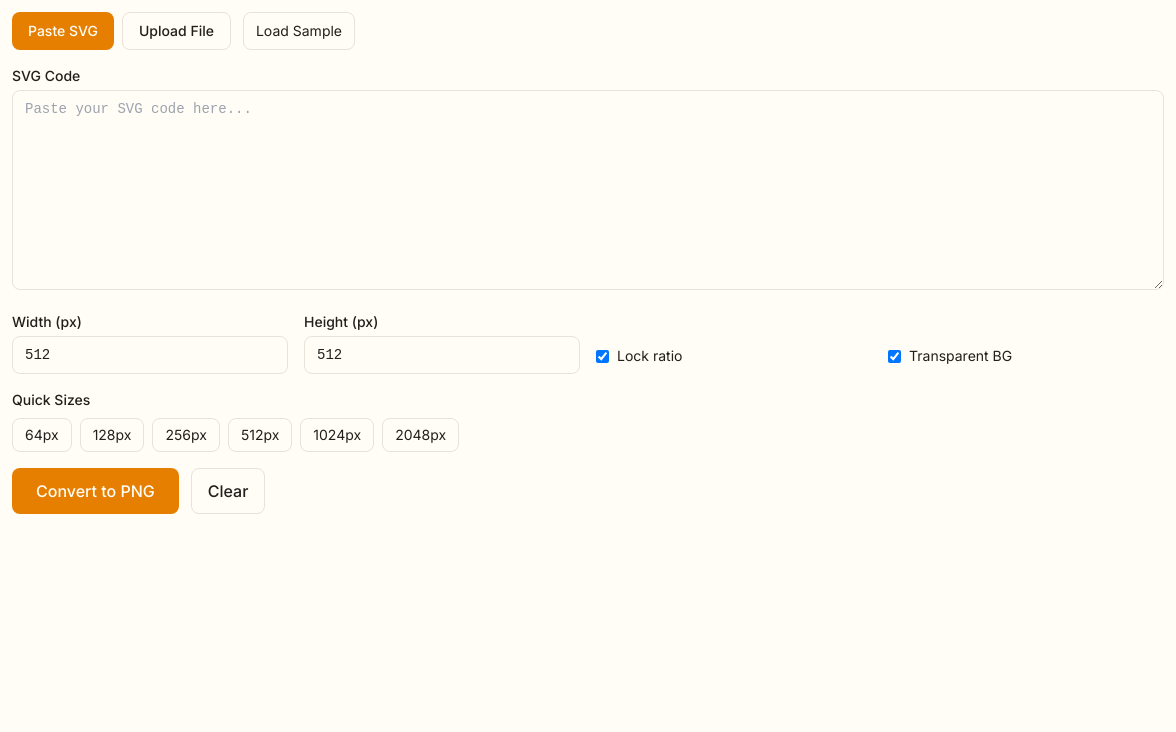
Test case: SvgToPng › switches to Upload File mode when button is clicked
Click the button "Upload File".
click(176, 31)  # box x1=122 y1=12 x2=231 y2=50
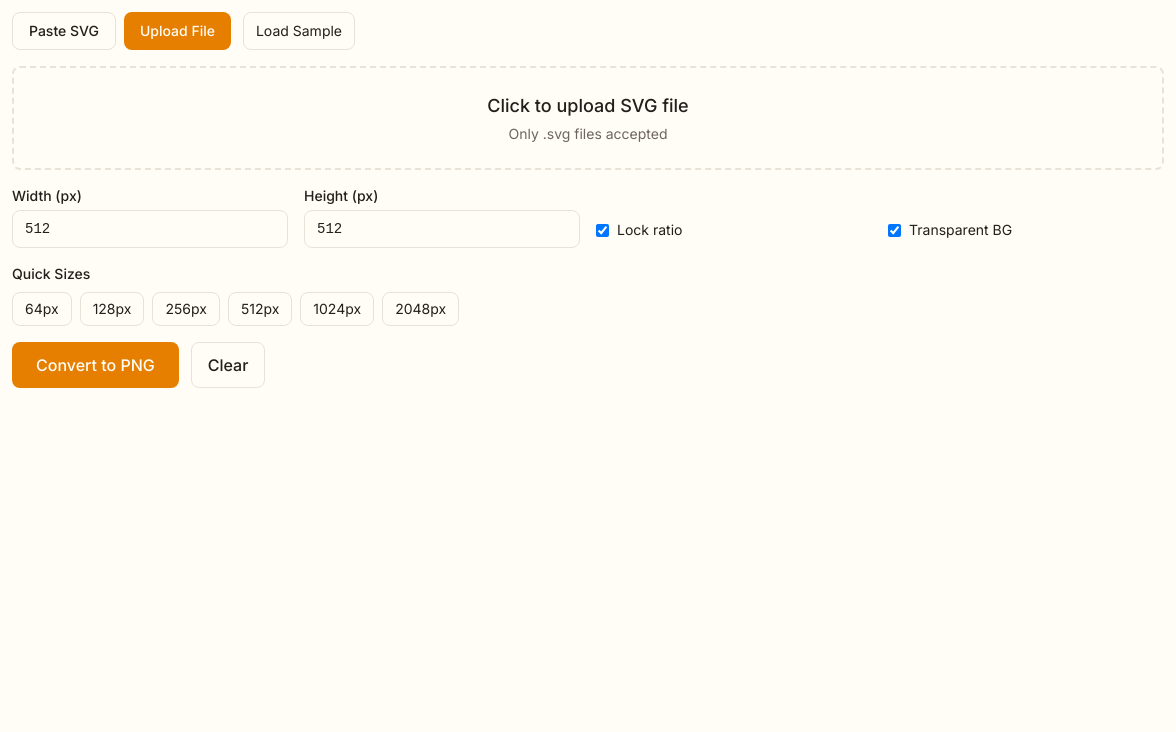
Now the text "Click to upload SVG file" is shown, box x1=487 y1=95 x2=689 y2=116
Now the text "Only .svg files accepted" is shown, box x1=508 y1=125 x2=668 y2=142
